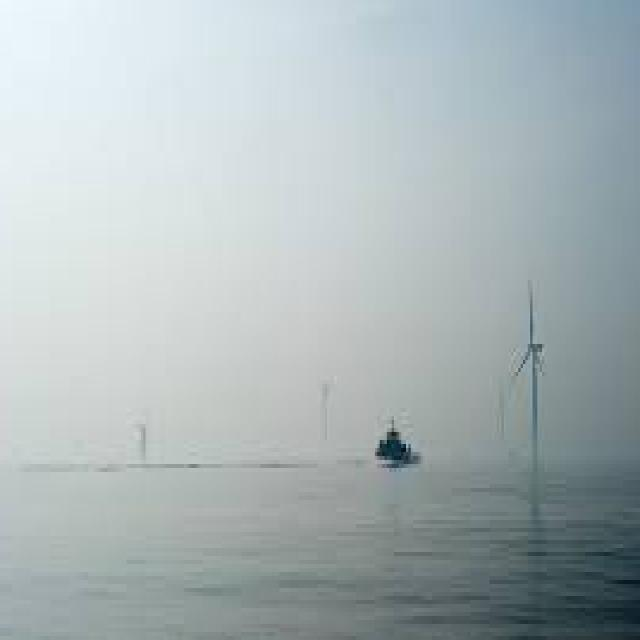fishing boat: (367, 405, 425, 464)
